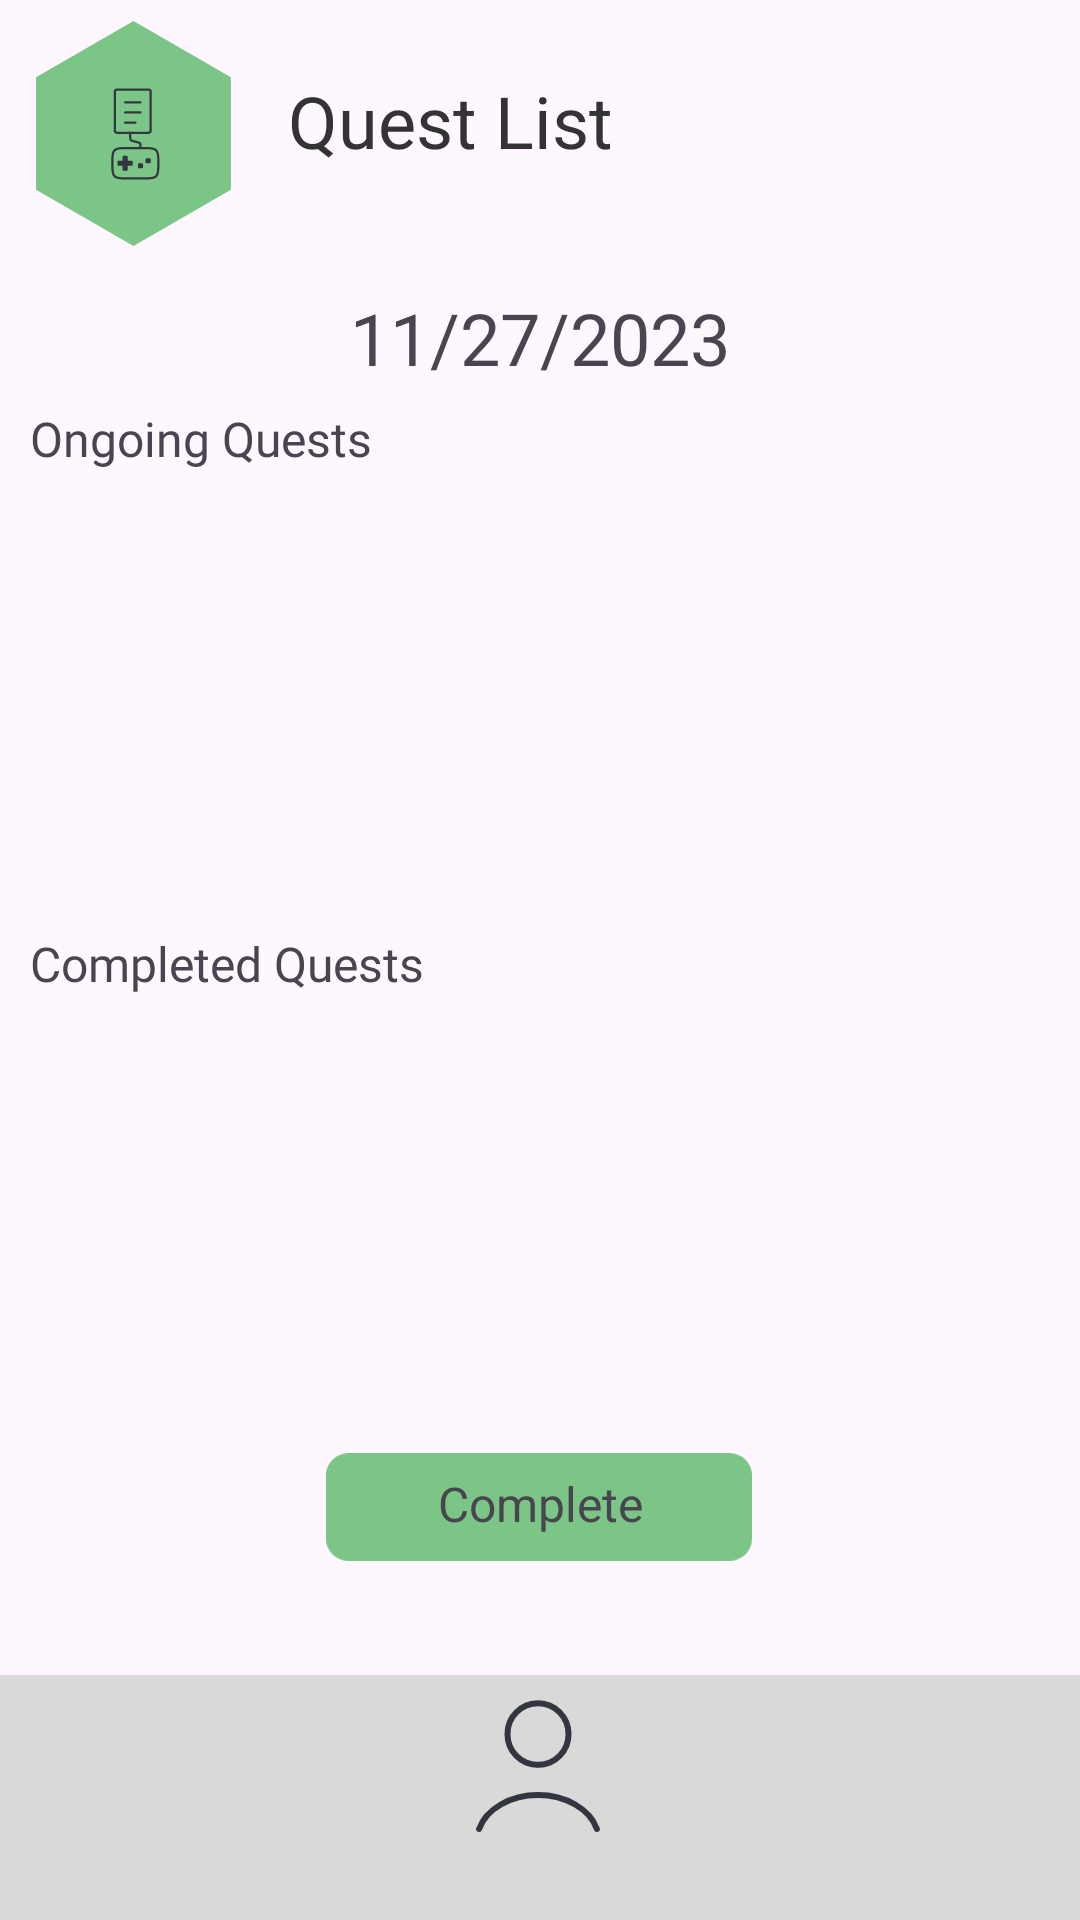

Point at icon controls on the screen. Image size 1080px×1920px, points as point (x, y).
user: point (538, 1766)
